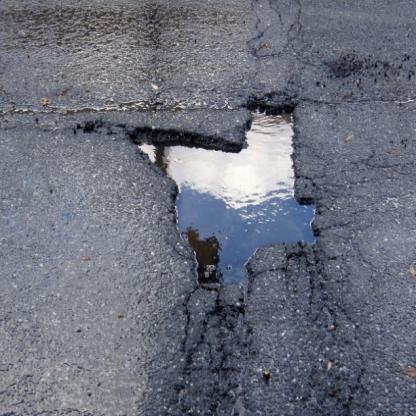pothole_water: (59, 74, 346, 309)
